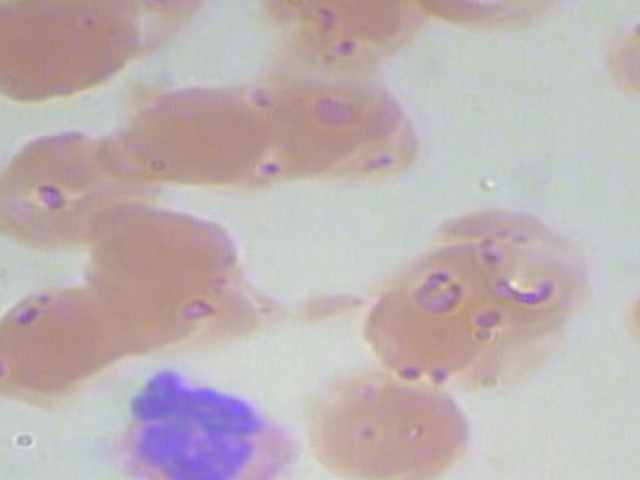RBC: (0, 120, 156, 256), (294, 374, 486, 480), (115, 80, 275, 189), (84, 197, 243, 306), (0, 282, 132, 407), (0, 0, 135, 101), (574, 1, 640, 119), (607, 252, 640, 377)
WBC: (103, 366, 305, 480)
